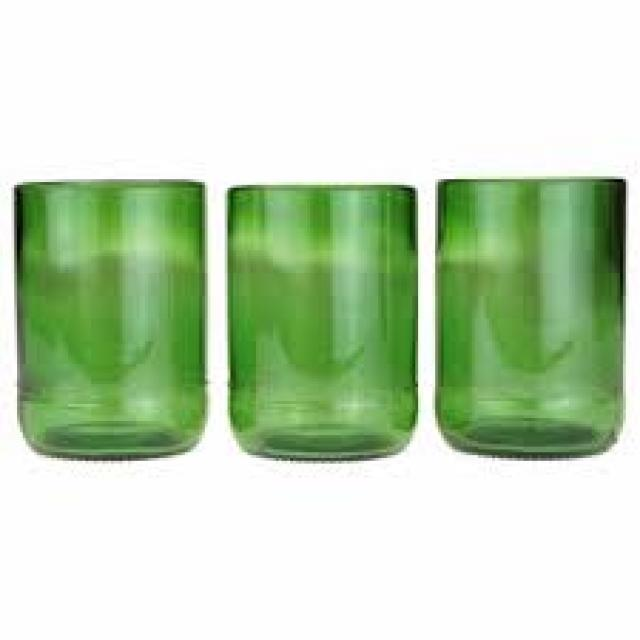Glass-Non-Biodegradable but Recyclable-: (433, 176, 628, 462)
